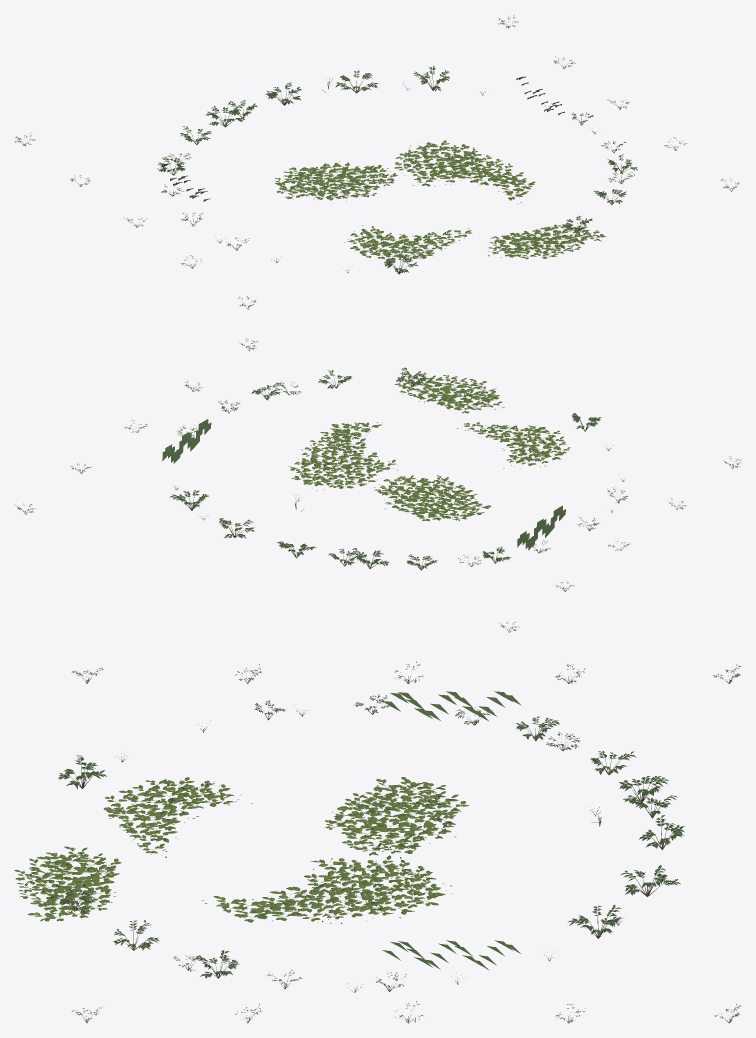
File: hengwuyuan.glb
3 views of the same model, one above another, from view 1: azimuth 30°, elevation 25°; view 2: azimuth 150°, elevation 25°; view 3: azimuth 270°, elevation 25° (orthographic). The views are drawn at different scales.
Parts seen in each view (by area): view 1: Mobile_hengwuyuan_botanical_bamboo, Mobile_hengwuyuan_plants; view 2: Mobile_hengwuyuan_botanical_bamboo, Mobile_hengwuyuan_plants; view 3: Mobile_hengwuyuan_botanical_bamboo, Mobile_hengwuyuan_plants, Mobile_hengwuyuan_botanical_stem.
Boxes of the visible parts, x1,y1,x2,y2 form: Mobile_hengwuyuan_botanical_bamboo: (275,140,605,261); Mobile_hengwuyuan_plants: (14,15,738,309); Mobile_hengwuyuan_botanical_bamboo: (290,371,570,521); Mobile_hengwuyuan_plants: (14,338,741,632); Mobile_hengwuyuan_botanical_bamboo: (14,777,469,922); Mobile_hengwuyuan_plants: (51,661,741,1023); Mobile_hengwuyuan_botanical_stem: (22,783,456,918).
Size of the model in its own units: 31.32 by 2.41 by 27.2.
4 materials, 3 textured.
